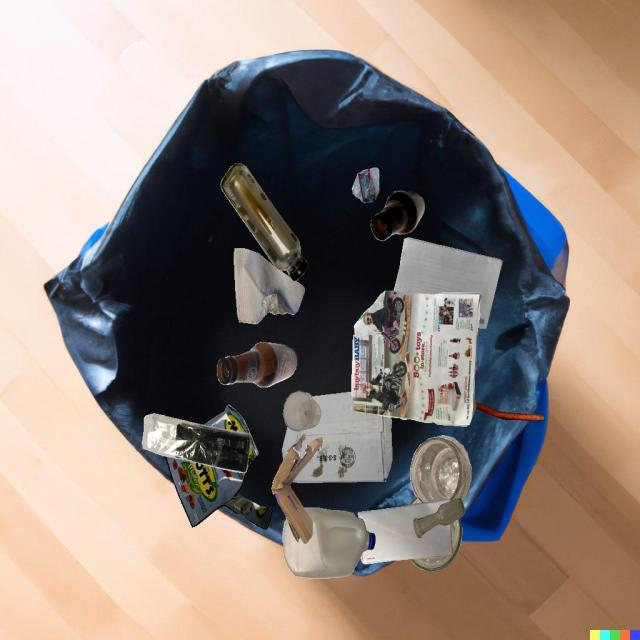biowaste: (475, 402, 544, 421)
cardboard: (282, 392, 392, 483), (271, 434, 323, 544)
glass: (220, 163, 308, 282), (410, 435, 472, 503), (217, 342, 297, 387), (410, 518, 462, 572), (371, 190, 425, 241), (413, 498, 465, 538), (283, 391, 321, 432)
paper: (351, 291, 482, 427), (394, 237, 503, 329), (358, 500, 453, 564), (234, 248, 305, 324)
plastic: (283, 507, 375, 579), (142, 413, 250, 473), (352, 168, 379, 203)
trash: (166, 456, 272, 529)
